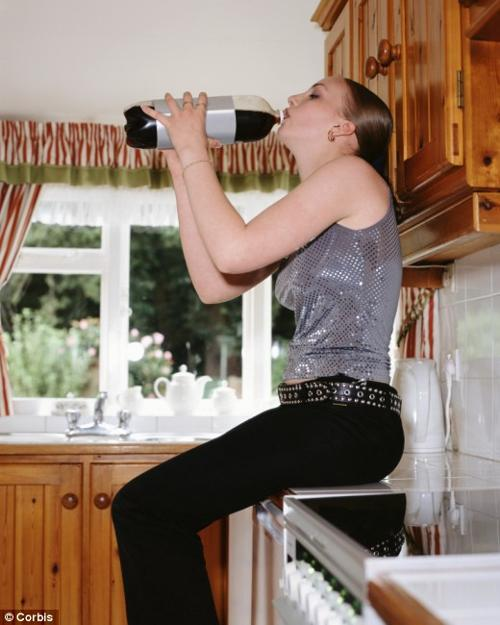person: (109, 74, 409, 623)
